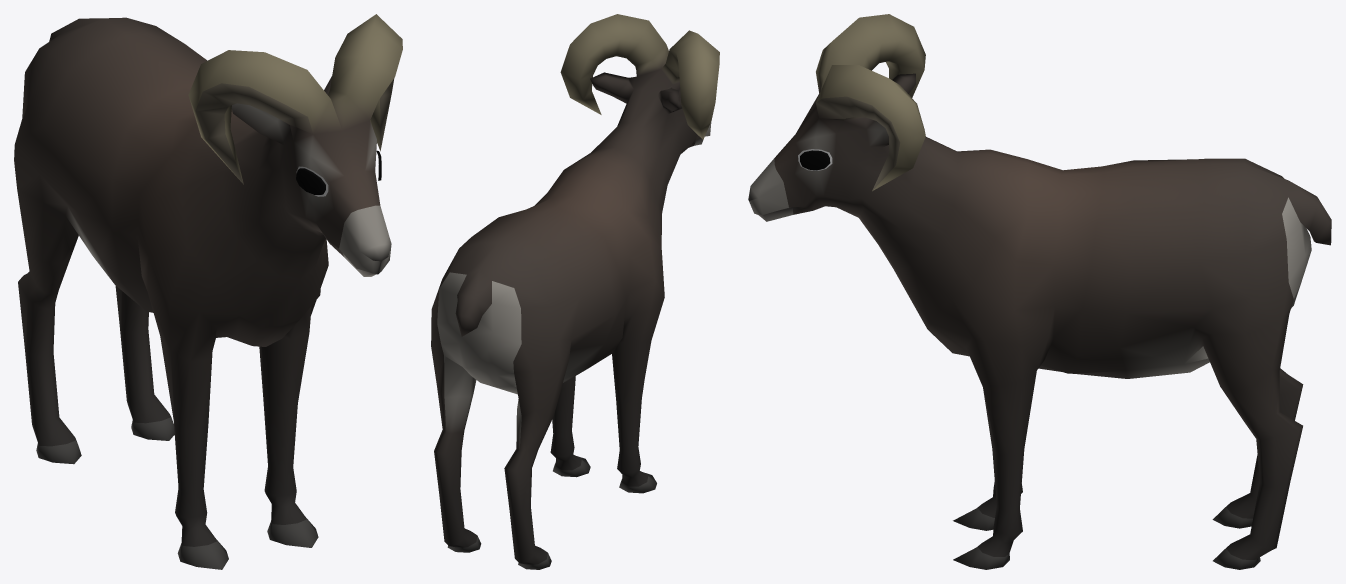
Rendered from kit-bighorn.glb.
3 renders of one model, left to right at view 1: azimuth 30°, elevation 25°; view 2: azimuth 150°, elevation 25°; view 3: azimuth 270°, elevation 25°, orthographic. The views are drawn at different scales.
Visible parts, largest first — view 1: alt606; view 2: alt606; view 3: alt606.
Part boxes in pixels (<box>): alt606: <box>14,14,402,569</box>; alt606: <box>431,14,719,569</box>; alt606: <box>748,14,1331,569</box>.
Size of the model in its own units: 0.5066 by 1.34 by 1.42.
